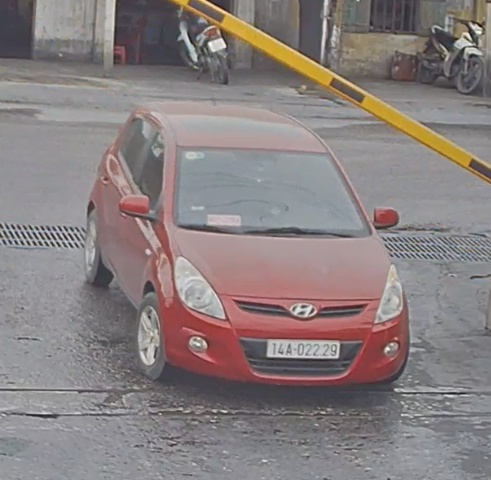vehicle plate: (262, 333, 343, 360)
